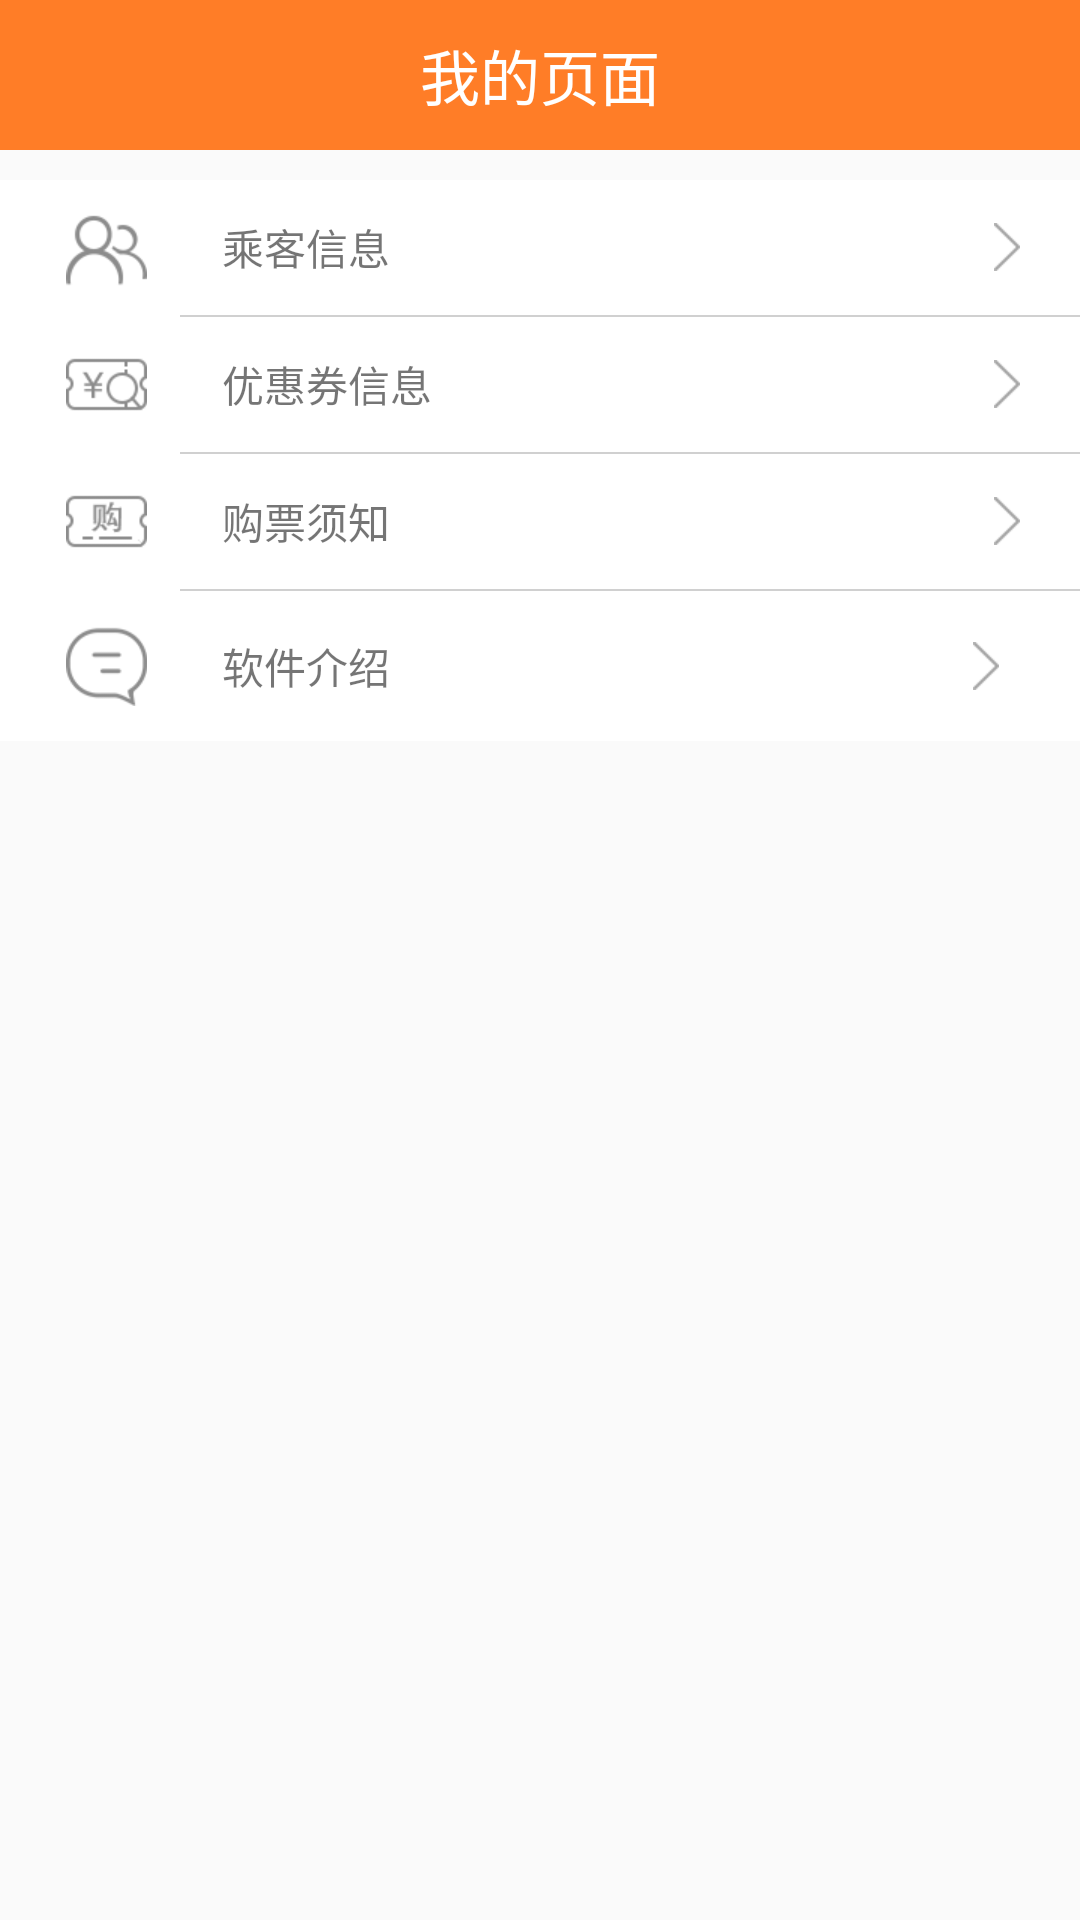

Icons on this 1080px x 1920px Android screen, each with the point to tap as [x,y]:
me arrow right: [1007,247], [1007,384], [1007,521], [986,666]
me contact: [106,250]
